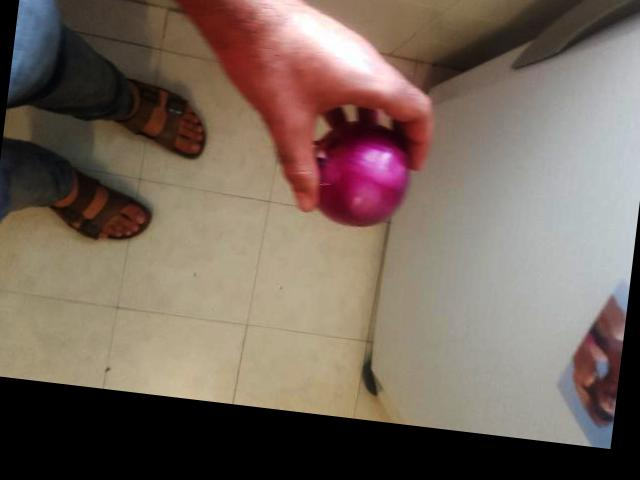onion: (310, 118, 417, 231)
